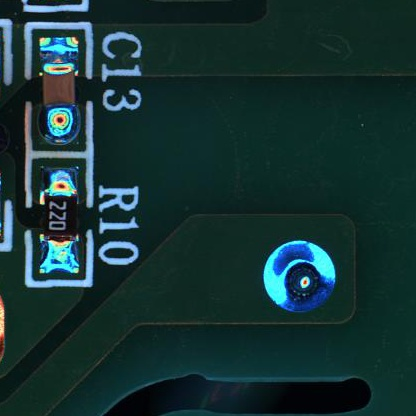spot: (247, 230, 349, 325)
